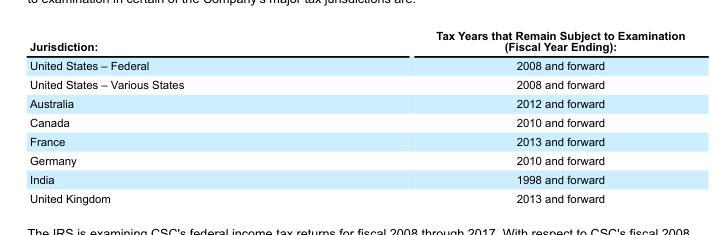table: (28, 28, 684, 204)
table column: (309, 28, 684, 204), (28, 28, 309, 204)
table row: (28, 28, 684, 55), (28, 55, 684, 74), (28, 74, 684, 93), (28, 93, 684, 112), (28, 112, 684, 131), (28, 131, 684, 150), (28, 150, 684, 169), (28, 169, 684, 188), (28, 188, 684, 204)
